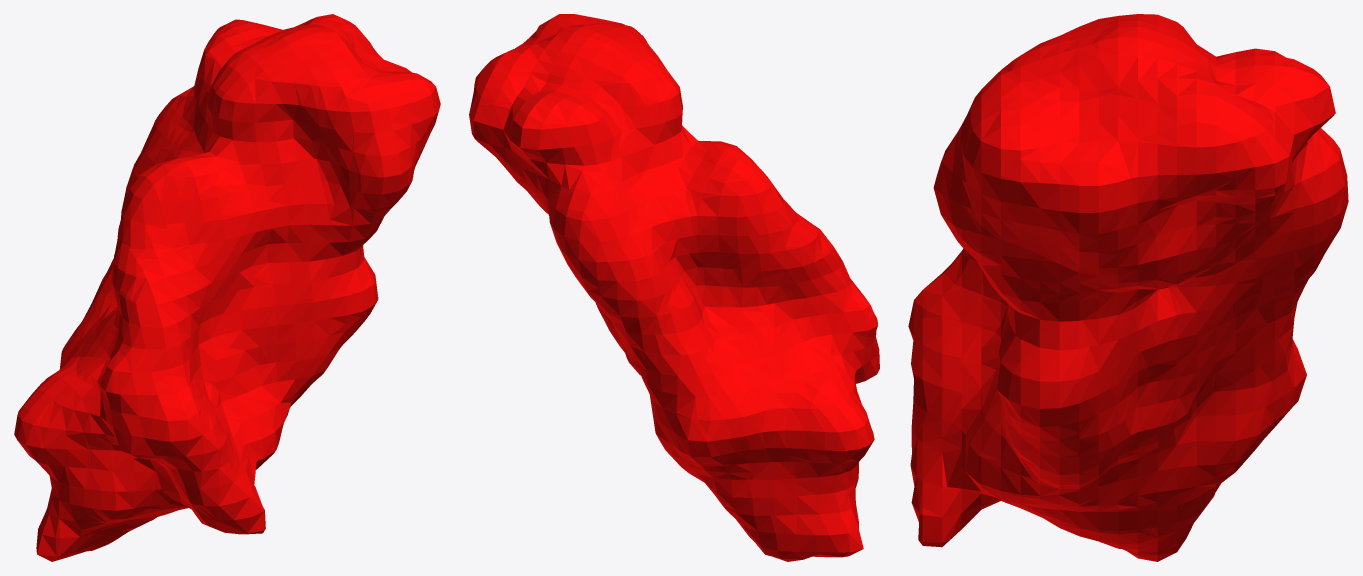
File: secF_coarse.dae
3 views of the same model, side by side, from view 1: azimuth 30°, elevation 25°; view 2: azimuth 150°, elevation 25°; view 3: azimuth 270°, elevation 25° (orthographic). The views are drawn at different scales.
Visible parts, largest first — view 1: secF; view 2: secF; view 3: secF.
Part boxes in pixels (x1,y1,x2,y2): secF: (14,14,440,561); secF: (469,14,879,561); secF: (908,14,1348,561).
Bounding box in the file's own units: 66.23 × 77.28 × 46.09.
